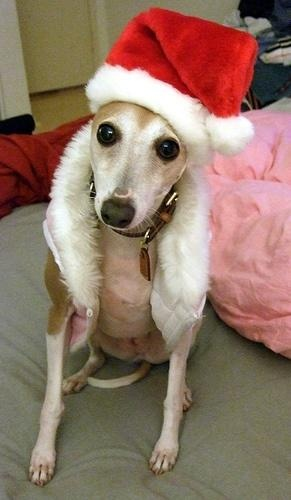dog: (28, 99, 210, 487)
